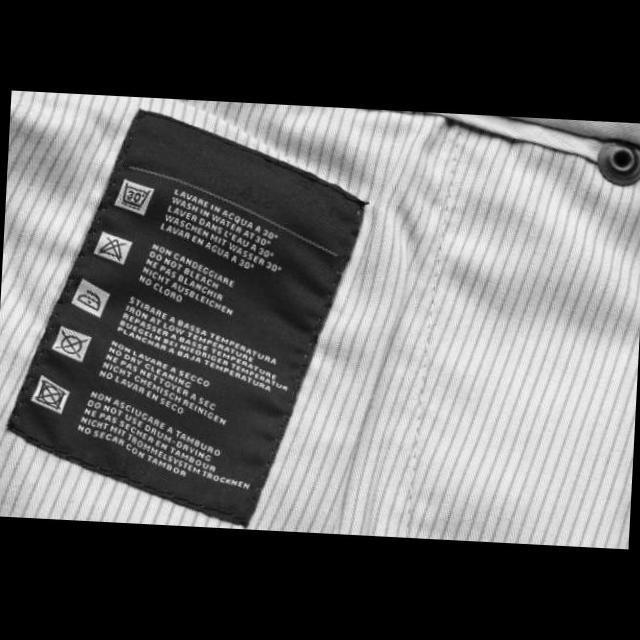30C: (120, 182, 152, 212)
DN_bleach: (96, 235, 128, 262)
DN_dry_clean: (54, 330, 88, 360)
DN_tumble_dry: (32, 379, 68, 413)
iron_low: (76, 289, 103, 313)
